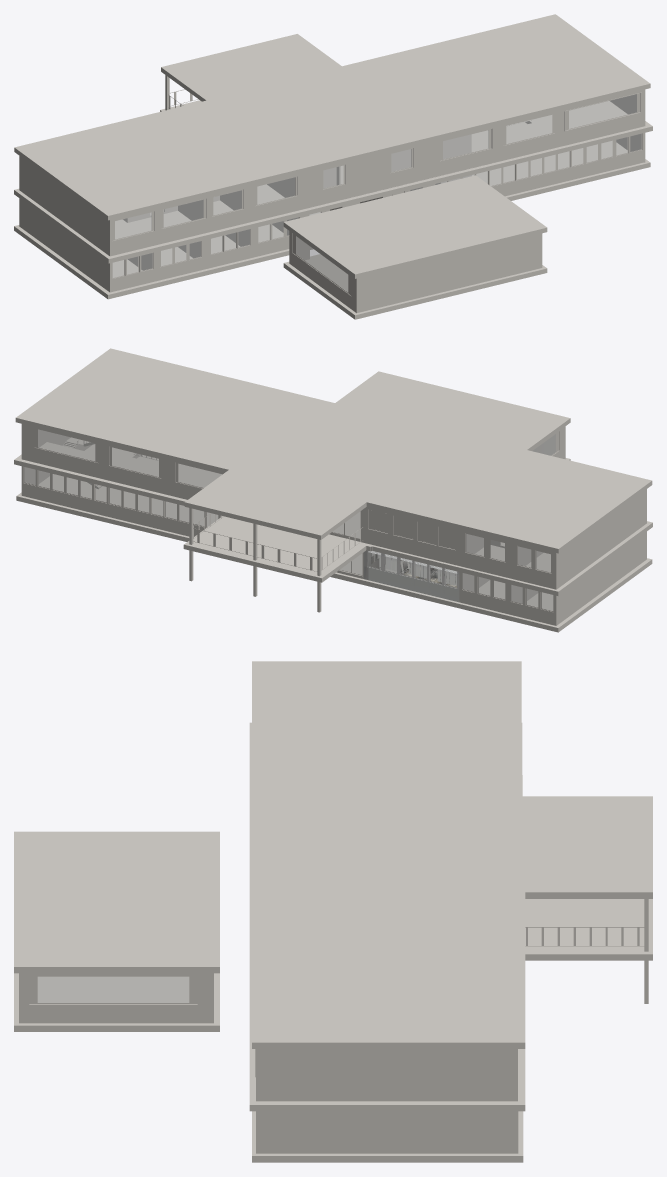
The model's file is smart_ideas_walk.glb.
The picture shows the model from 3 angles, top to bottom: view 1: azimuth 30°, elevation 25°; view 2: azimuth 150°, elevation 25°; view 3: azimuth 270°, elevation 25°; orthographic projection. The views are drawn at different scales.
Visible parts, largest first — view 1: BEYOND_L2_SLAB, BEYOND_L1_WALL, BEYOND_L0_WALL, BEYOND_L0_SLAB, BEYOND_L1_SLAB, BEYOND_L1_GLASS, BEYOND_L0_GLASS, UPPER_in_zone, BEYOND_L1_FRAME, BEYOND_L0_FRAME, BEYOND_L1_OTHER, BEYOND_L0_OTHER; view 2: BEYOND_L2_SLAB, BEYOND_L1_SLAB, BEYOND_L1_WALL, BEYOND_L0_WALL, UPPER_in_zone, BEYOND_L0_SLAB, BEYOND_L1_GLASS, BEYOND_L0_GLASS, BAKE_wall_north, BEYOND_L0_FRAME, BEYOND_L1_FRAME, GLASS_zone (+6 smaller); view 3: BEYOND_L2_SLAB, BEYOND_L0_WALL, BEYOND_L1_WALL, BEYOND_L1_SLAB, BEYOND_L0_SLAB, UPPER_in_zone, BEYOND_L0_GLASS, BEYOND_L0_FRAME.
Part boxes in pixels (bbox=[...]): BEYOND_L2_SLAB: bbox=[14, 14, 650, 278]; BEYOND_L1_WALL: bbox=[19, 89, 645, 256]; BEYOND_L0_WALL: bbox=[19, 133, 645, 313]; BEYOND_L0_SLAB: bbox=[14, 122, 650, 319]; BEYOND_L1_SLAB: bbox=[14, 100, 652, 263]; BEYOND_L1_GLASS: bbox=[115, 94, 636, 238]; BEYOND_L0_GLASS: bbox=[113, 134, 641, 291]; UPPER_in_zone: bbox=[116, 100, 248, 150]; BEYOND_L1_FRAME: bbox=[113, 93, 640, 240]; BEYOND_L0_FRAME: bbox=[112, 134, 642, 295]; BEYOND_L1_OTHER: bbox=[112, 89, 641, 240]; BEYOND_L0_OTHER: bbox=[124, 133, 642, 295]; BEYOND_L2_SLAB: bbox=[15, 348, 652, 553]; BEYOND_L1_SLAB: bbox=[14, 442, 652, 596]; BEYOND_L1_WALL: bbox=[21, 424, 646, 589]; BEYOND_L0_WALL: bbox=[21, 426, 646, 625]; UPPER_in_zone: bbox=[364, 473, 495, 565]; BEYOND_L0_SLAB: bbox=[16, 444, 652, 632]; BEYOND_L1_GLASS: bbox=[38, 429, 550, 572]; BEYOND_L0_GLASS: bbox=[24, 434, 555, 610]; BAKE_wall_north: bbox=[364, 550, 459, 602]; BEYOND_L0_FRAME: bbox=[23, 431, 558, 611]; BEYOND_L1_FRAME: bbox=[34, 428, 551, 573]; GLASS_zone: bbox=[368, 551, 456, 587]; BEYOND_L2_SLAB: bbox=[14, 661, 652, 1048]; BEYOND_L0_WALL: bbox=[19, 973, 518, 1153]; BEYOND_L1_WALL: bbox=[256, 1049, 517, 1101]; BEYOND_L1_SLAB: bbox=[249, 722, 652, 1111]; BEYOND_L0_SLAB: bbox=[14, 775, 523, 1162]; UPPER_in_zone: bbox=[412, 732, 518, 799]; BEYOND_L0_GLASS: bbox=[38, 977, 188, 1002]; BEYOND_L0_FRAME: bbox=[29, 976, 197, 1003].
Size of the model in its own units: 38.22 by 5.6 by 27.
11 materials, 8 textured.
